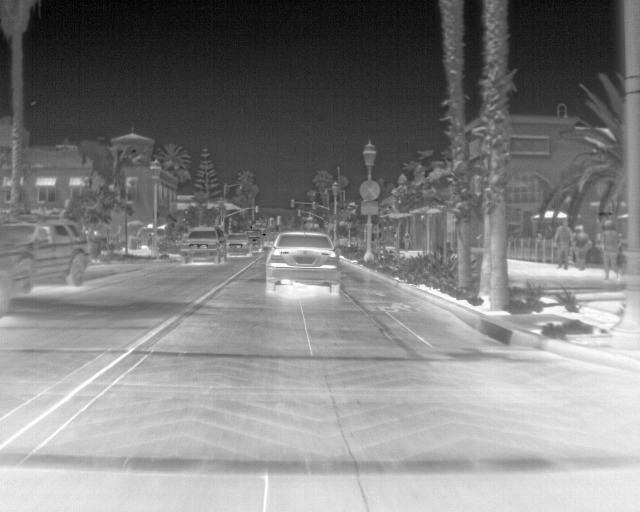bicycle: (5, 219, 89, 290), (260, 229, 343, 294), (179, 226, 229, 263), (222, 232, 251, 260)
empty: (596, 220, 625, 278), (548, 216, 575, 268), (572, 224, 593, 269)
